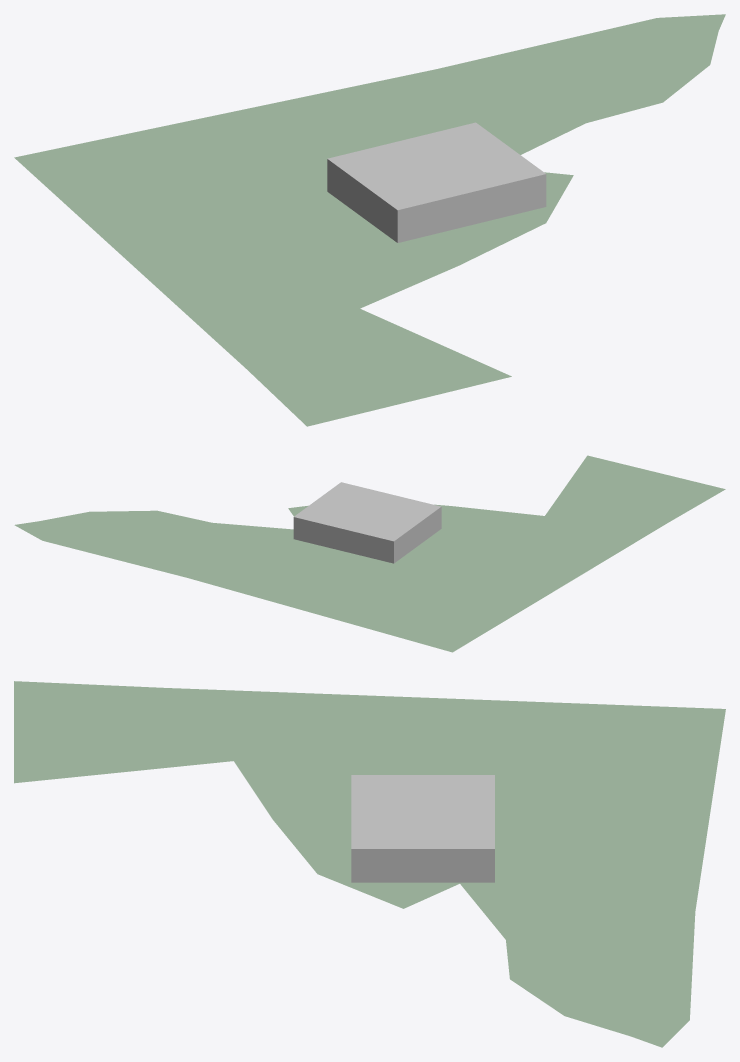
File: 145_107_mid.glb
3 views of the same model, one above another, from view 1: azimuth 30°, elevation 25°; view 2: azimuth 150°, elevation 25°; view 3: azimuth 270°, elevation 25° (orthographic). The views are drawn at different scales.
Bounding box in the file's own units: 332 × 14.6 × 272.
